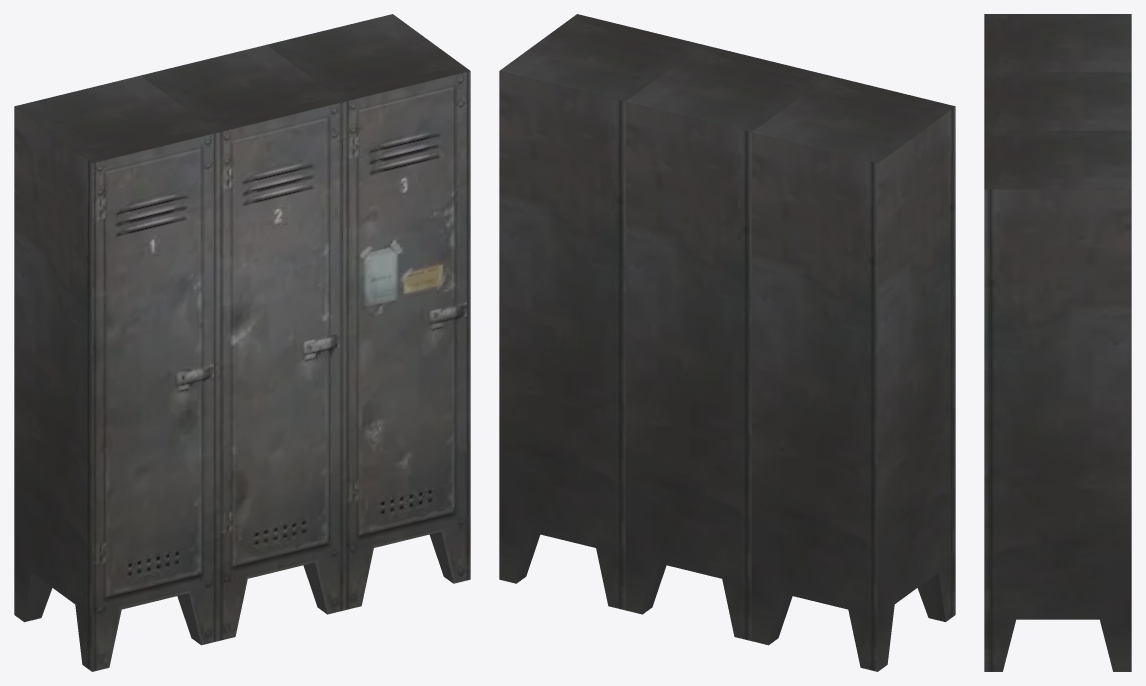
File: locker-bank.gltf
3 views of the same model, side by side, from view 1: azimuth 30°, elevation 25°; view 2: azimuth 150°, elevation 25°; view 3: azimuth 270°, elevation 25° (orthographic). The views are drawn at different scales.
Parts seen in each view (by area): view 1: storage_f_storage_f_mat_0; view 2: storage_f_storage_f_mat_0; view 3: storage_f_storage_f_mat_0.
Boxes of the visible parts, <box> form: storage_f_storage_f_mat_0: <box>14,14,470,671</box>; storage_f_storage_f_mat_0: <box>499,14,955,671</box>; storage_f_storage_f_mat_0: <box>984,14,1131,671</box>.
Bounding box in the file's own units: 1.27 × 1.64 × 0.4539.
Materials: 1 (1 with a texture image).
